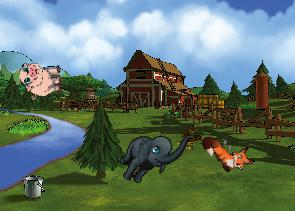elephant: (113, 111, 194, 198)
fox: (198, 120, 258, 182)
pig: (18, 57, 64, 100)
